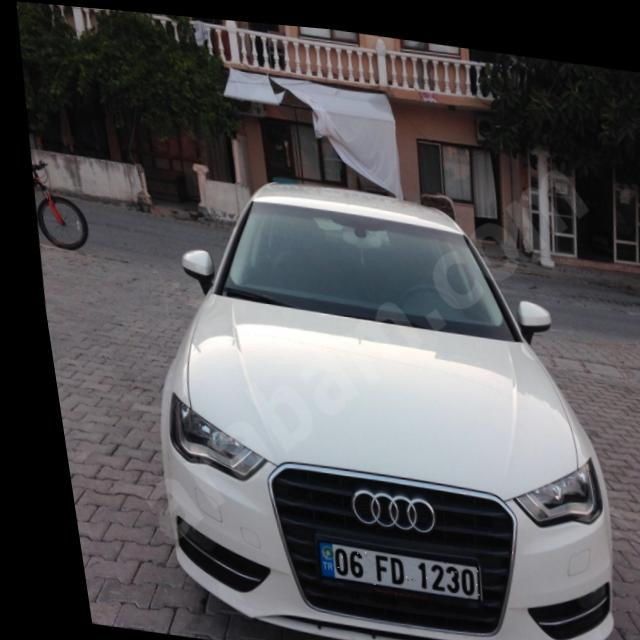license_plate: (299, 535, 466, 594)
